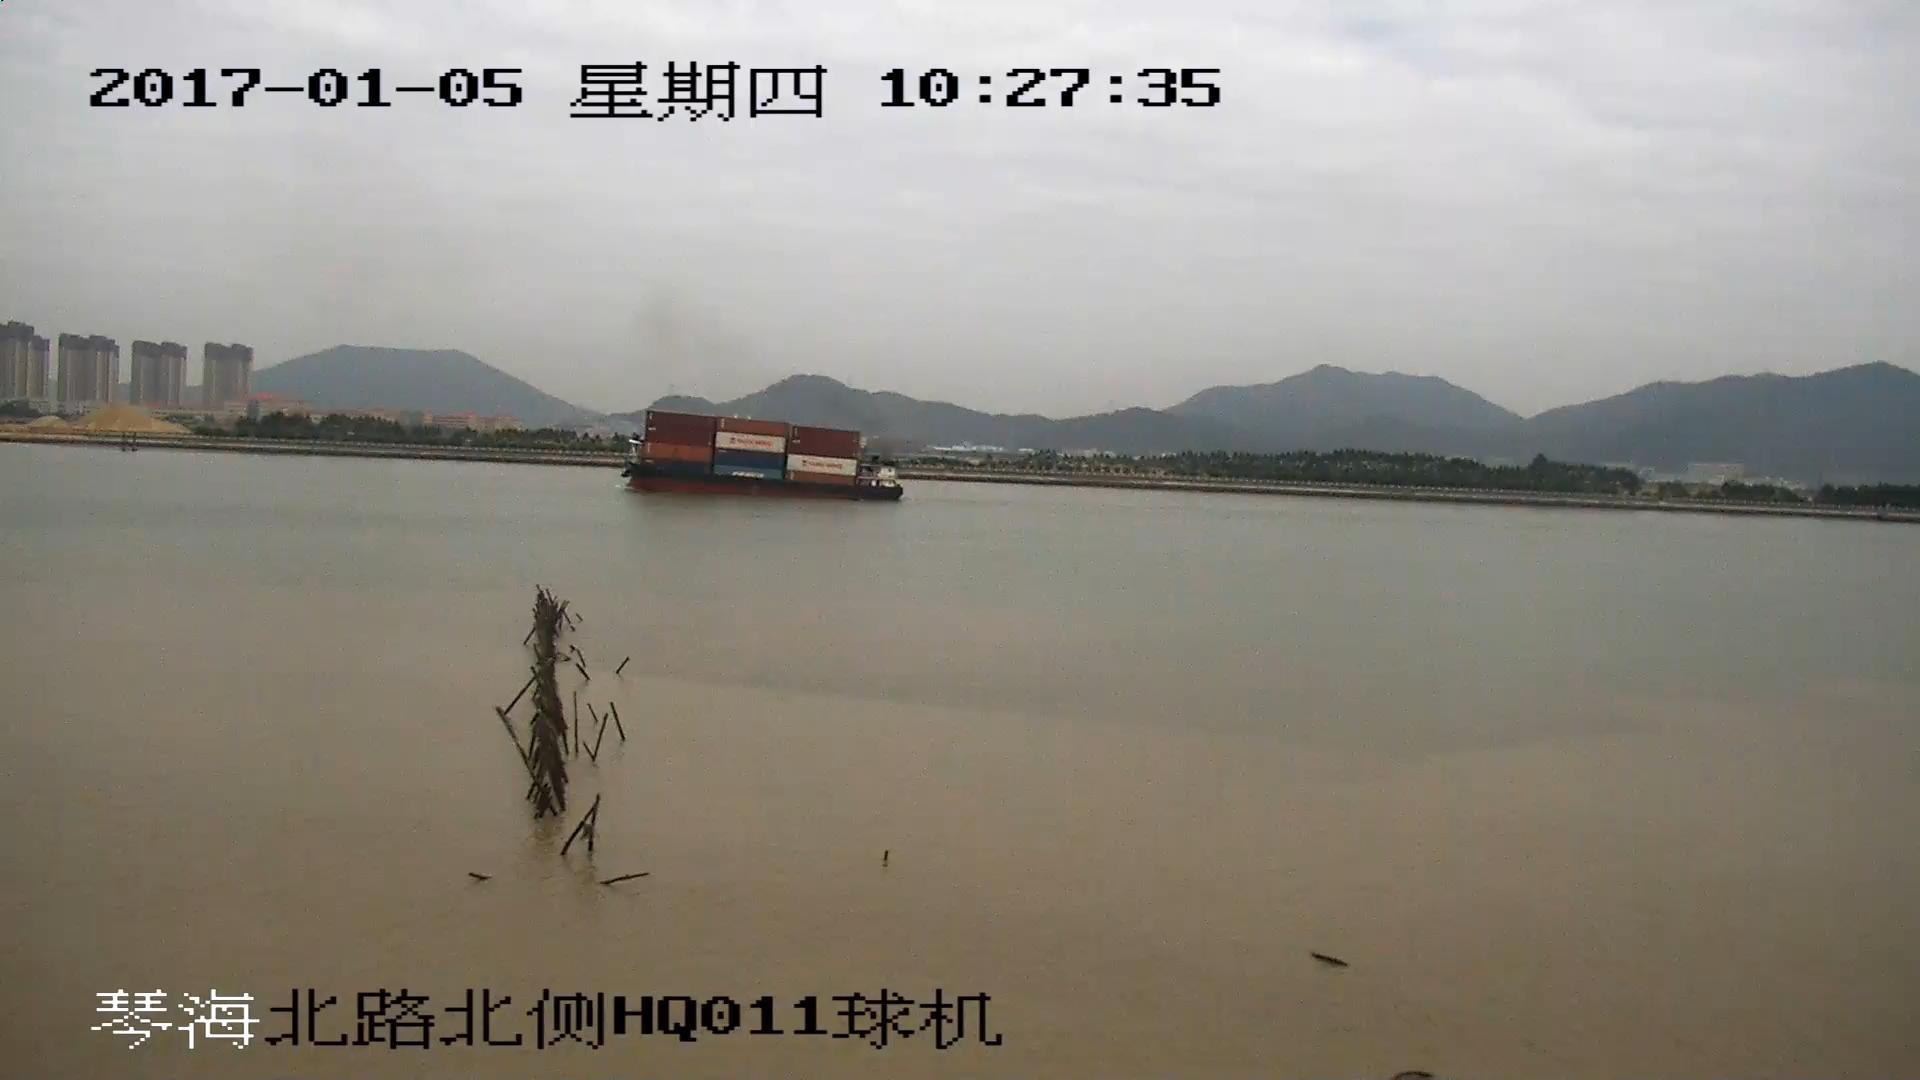Ship: (621, 411, 905, 504)
